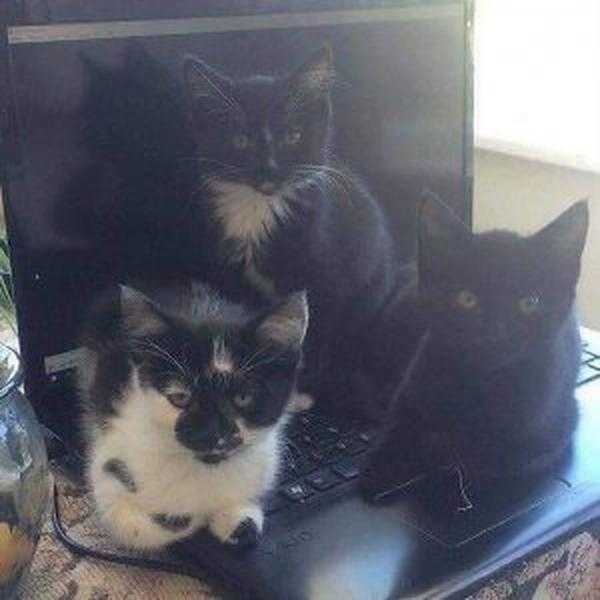michi: (378, 166, 596, 539), (63, 274, 312, 563), (166, 43, 371, 269)
